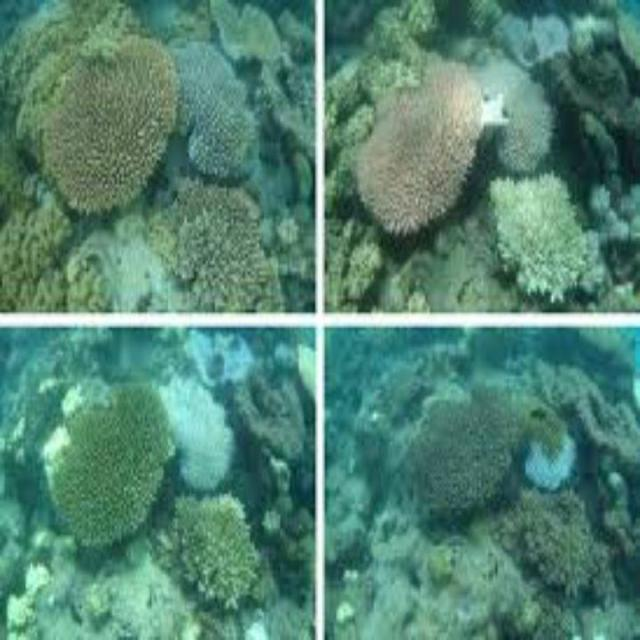Dead Coral: (32, 388, 182, 563), (385, 379, 507, 561), (546, 58, 640, 169), (524, 522, 634, 613)
Healthy Coral: (30, 31, 296, 301), (348, 67, 473, 244), (499, 186, 609, 291)
